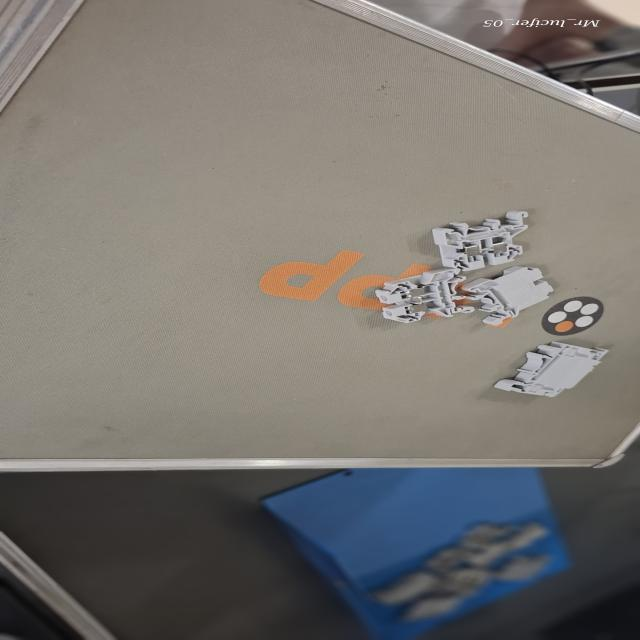Inverted: (460, 264, 560, 327)
Pass: (426, 208, 547, 271), (372, 268, 479, 325)
